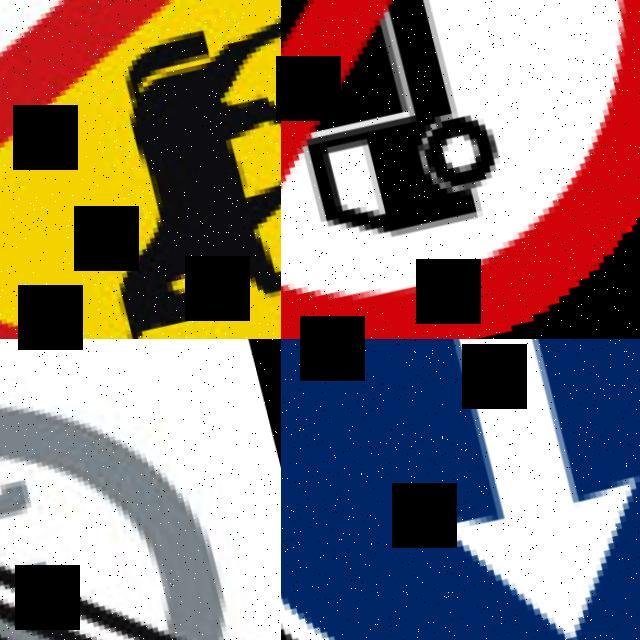111: (0, 339, 281, 640)
No entry for Trucks: (281, 0, 640, 339)
Turn left: (281, 339, 640, 640)
warning wild animal: (0, 0, 281, 339)
